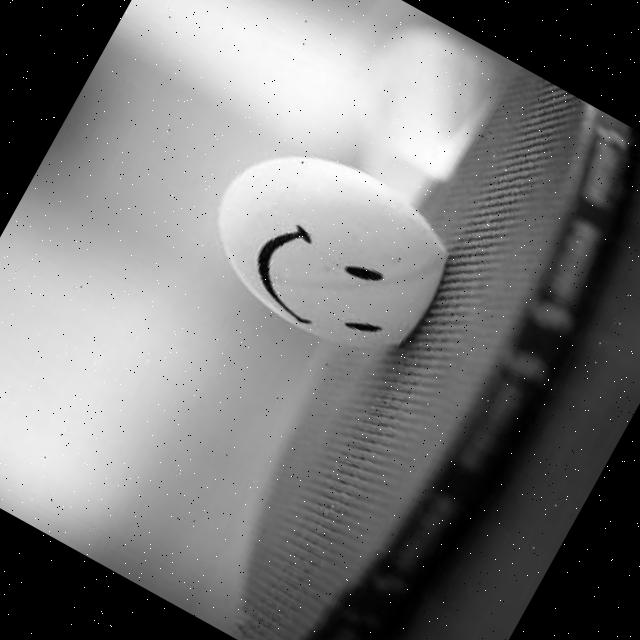ping-pong-ball: (186, 118, 477, 382)
